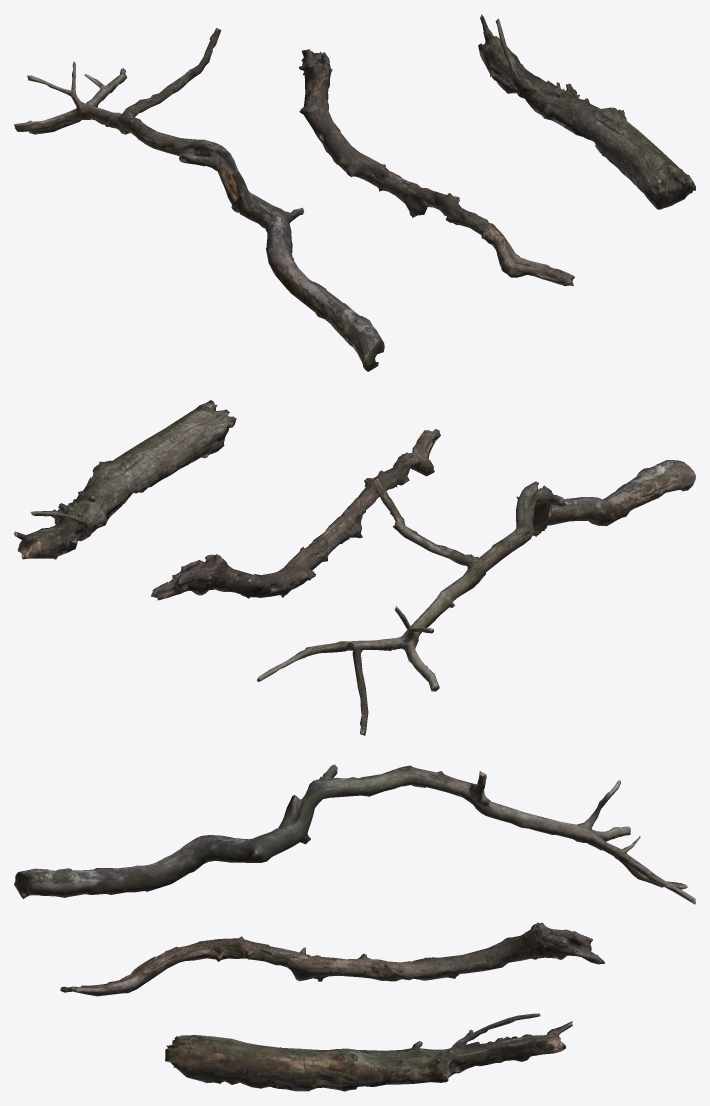
Rendered from dry_branches_medium_01.glb.
The picture shows the model from 3 angles, top to bottom: view 1: azimuth 30°, elevation 25°; view 2: azimuth 150°, elevation 25°; view 3: azimuth 270°, elevation 25°; orthographic projection. The views are drawn at different scales.
Parts seen in each view (by area): view 1: dry_branches_medium_01_c; view 2: dry_branches_medium_01_c; view 3: dry_branches_medium_01_c.
Part boxes in pixels (x1,y1,x2,y2): dry_branches_medium_01_c: [14, 14, 695, 371]; dry_branches_medium_01_c: [14, 400, 695, 735]; dry_branches_medium_01_c: [14, 764, 695, 1091].
Bounding box in the file's own units: 1.06 × 0.341 × 1.3.
Materials: 1 (1 with a texture image).
